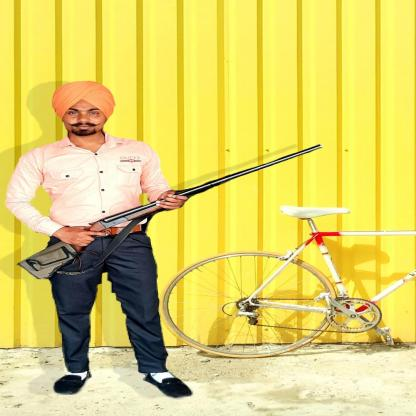rifle: (11, 142, 325, 282)
